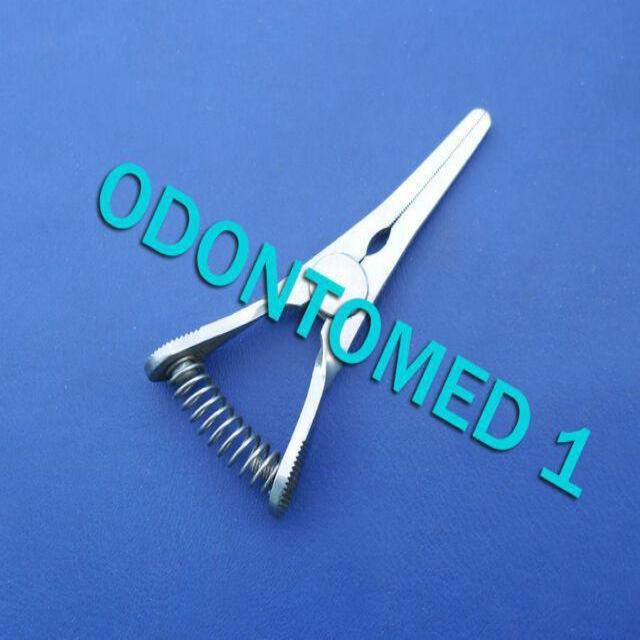Bulldog: (141, 104, 497, 520)
